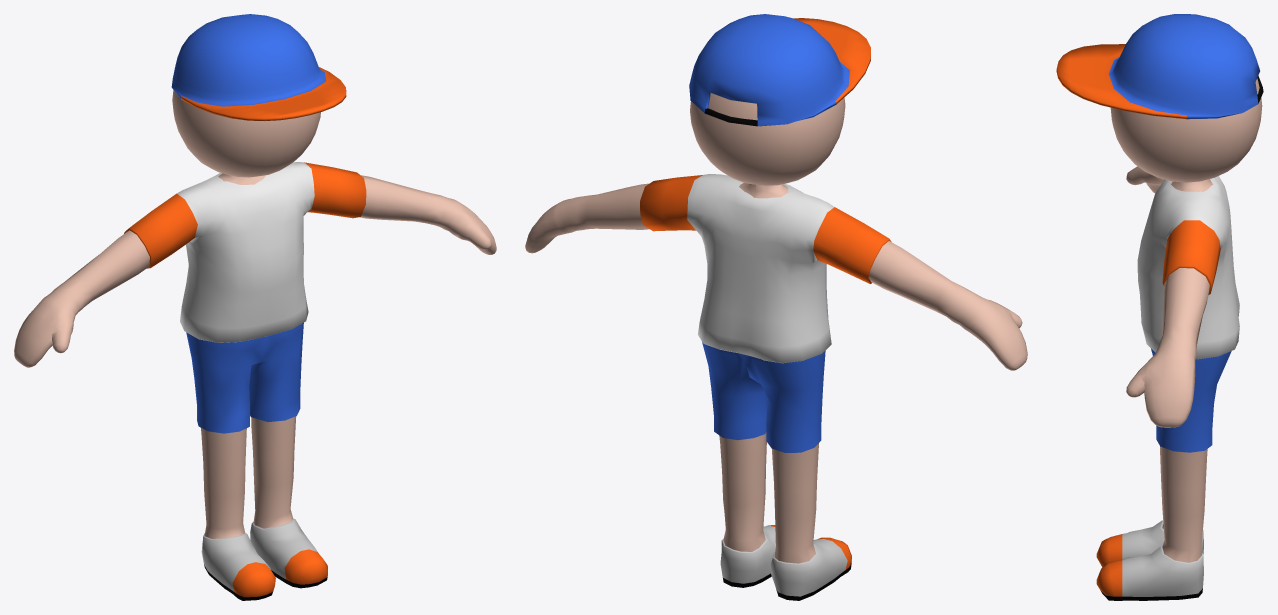
The model's file is child.fbx.
The picture shows the model from 3 angles, left to right: view 1: azimuth 30°, elevation 25°; view 2: azimuth 150°, elevation 25°; view 3: azimuth 270°, elevation 25°; orthographic projection. The views are drawn at different scales.
Parts seen in each view (by area): view 1: Stickman.010, t-shirt-1.002, ChildHat, shorts, shoes0.004; view 2: Stickman.010, t-shirt-1.002, ChildHat, shorts, shoes0.004; view 3: Stickman.010, ChildHat, t-shirt-1.002, shoes0.004, shorts.
Boxes of the visible parts, x1,y1,x2,y2 form: Stickman.010: (14,90,496,538); t-shirt-1.002: (124,162,366,342); ChildHat: (171,14,346,120); shorts: (186,322,303,433); shoes0.004: (201,518,327,600); Stickman.010: (525,93,1027,563); t-shirt-1.002: (640,174,891,363); ChildHat: (689,14,870,126); shorts: (702,342,825,452); shoes0.004: (720,525,851,600); Stickman.010: (1110,78,1262,562); ChildHat: (1056,14,1263,119); t-shirt-1.002: (1137,176,1239,359); shoes0.004: (1096,520,1203,600); shorts: (1151,348,1231,452).
Size of the model in its own units: 220 by 240 by 81.15.
